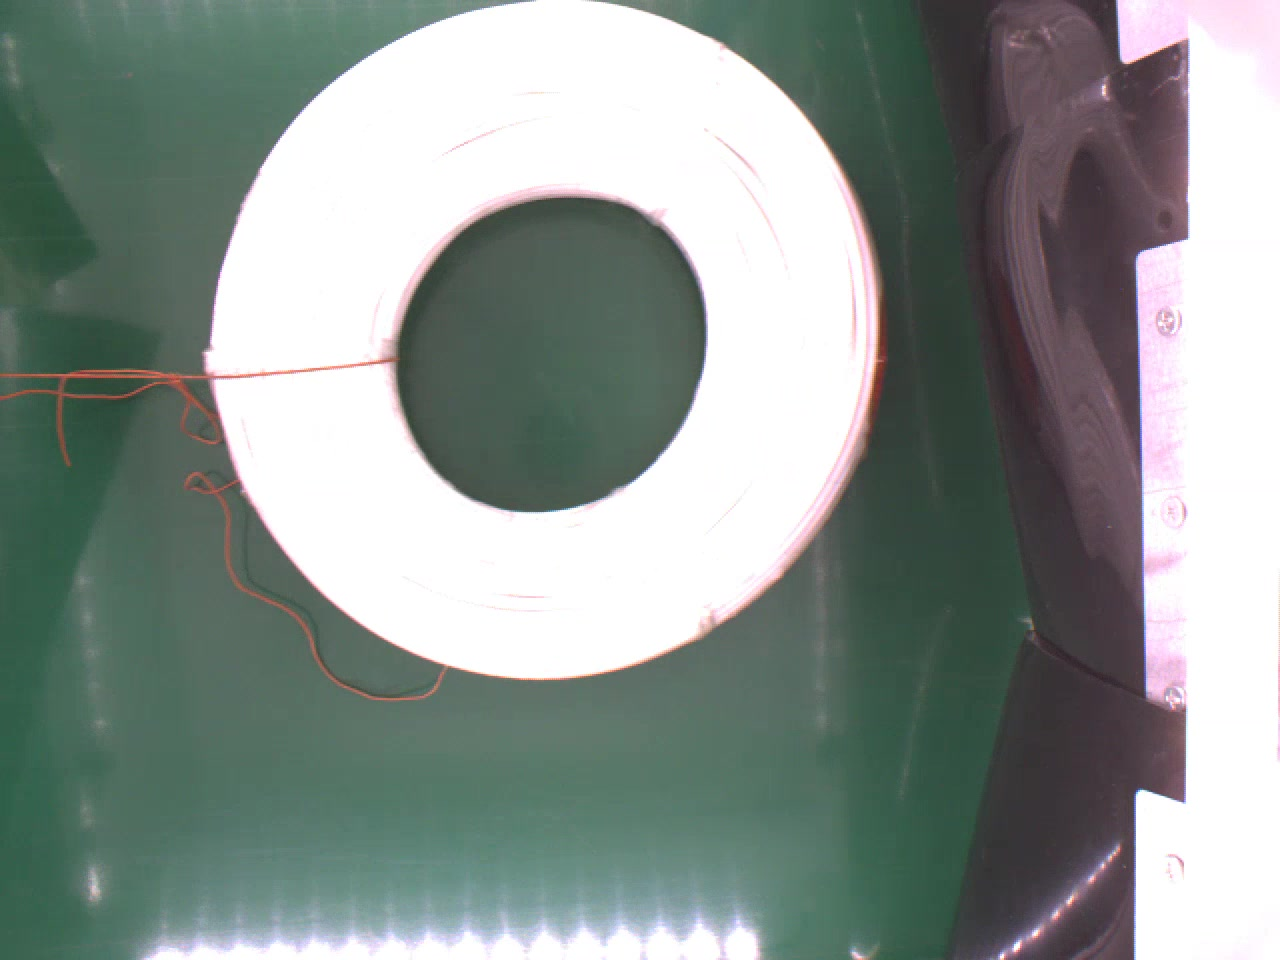white: (200, 2, 892, 690)
